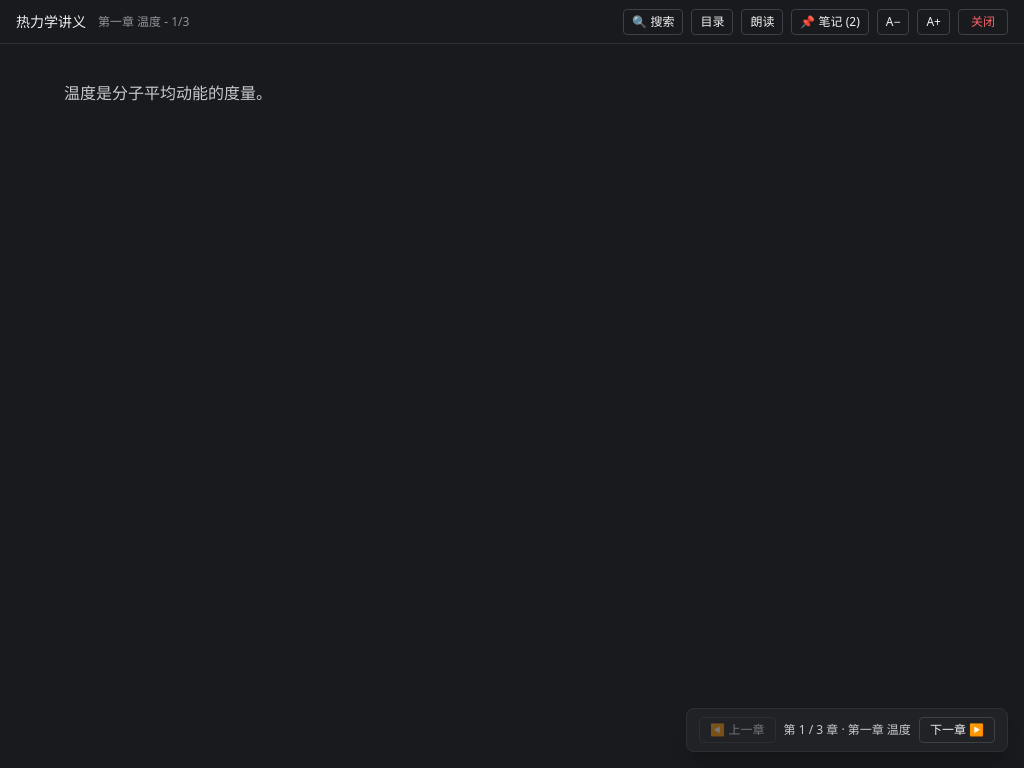
Test case: EpubReaderView — notes panel variants › renders underline and note badges and skips an empty reader note
Expected: the text "温度是分子平均动能的度量。" is shown, [64,82,272,104]
What coordinates should you click on to do the following:
click the button "📌 笔记 (2)"
I would click on:
 (830, 22)
Its box is [791,9,869,35].
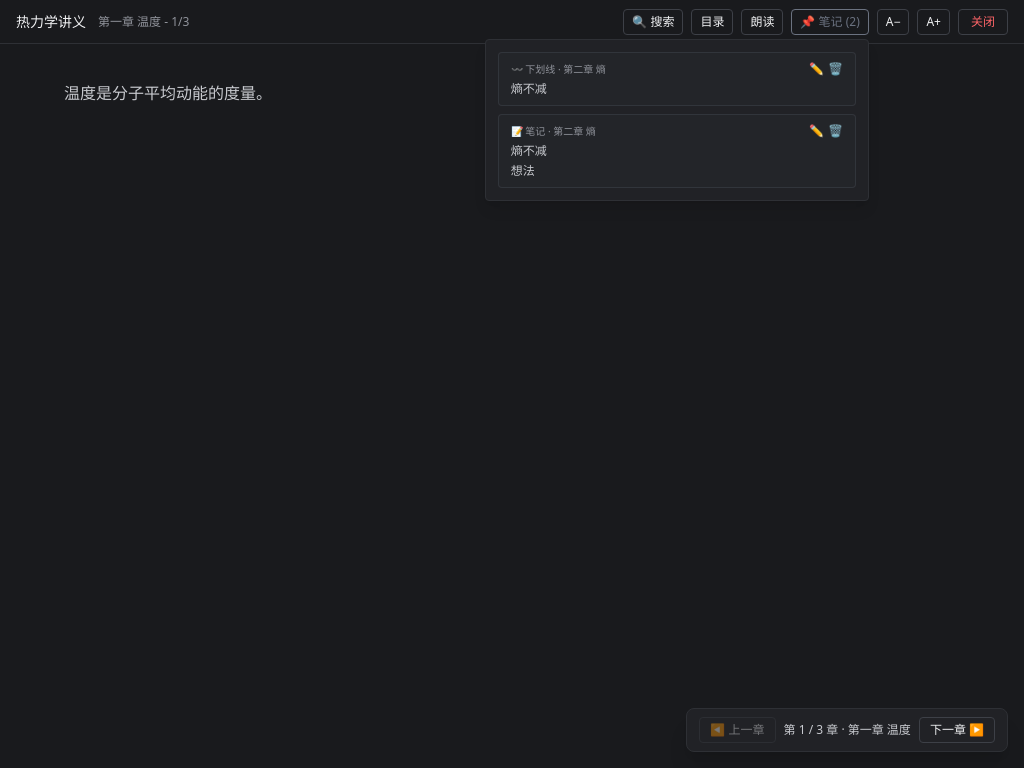
Expected: the text "〰️ 下划线 · 第二章 熵" is shown, [511,62,606,76]
Expected: the text "📝 笔记 · 第二章 熵" is shown, [511,124,596,138]
Expected: the text "想法" is shown, [511,162,535,179]
